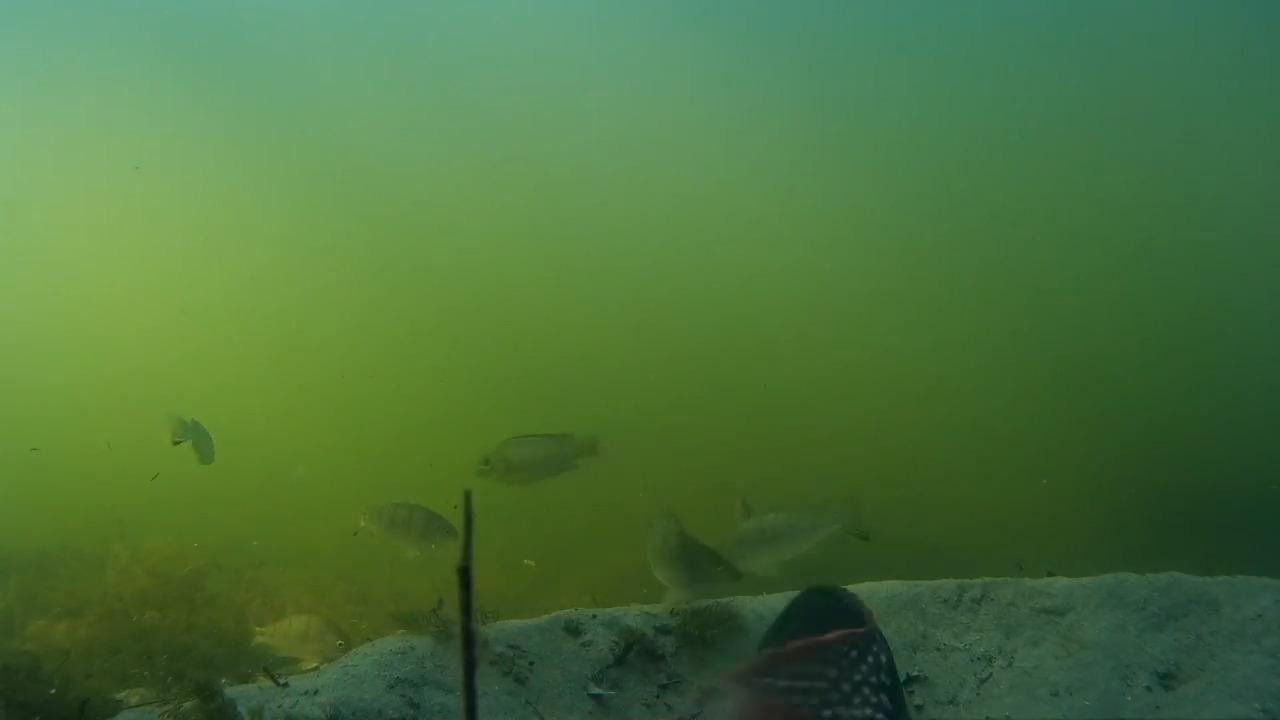Tilapia: (712, 580, 935, 716), (710, 492, 923, 606), (480, 422, 599, 504), (356, 500, 469, 572), (638, 528, 731, 614), (131, 404, 221, 488)
